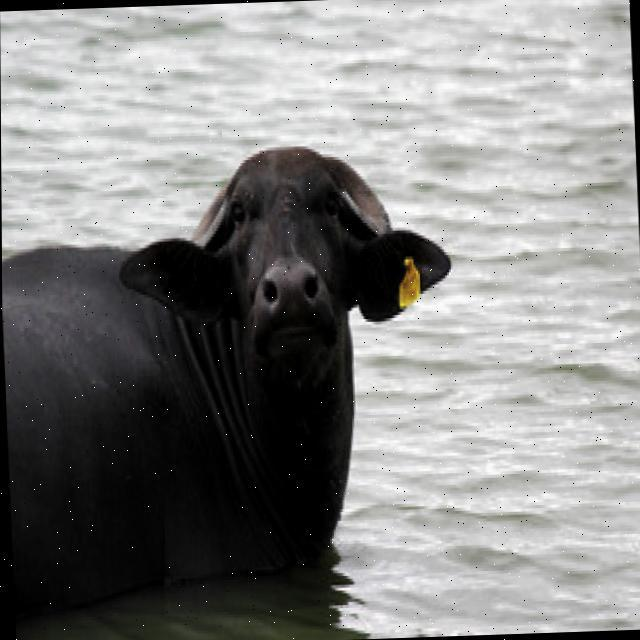Buffalo: (1, 135, 467, 624)
